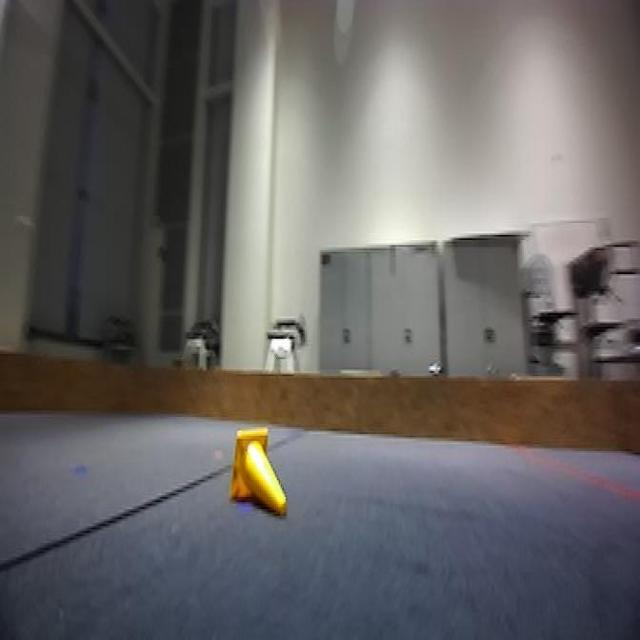frc_cone: (221, 431, 291, 519)
